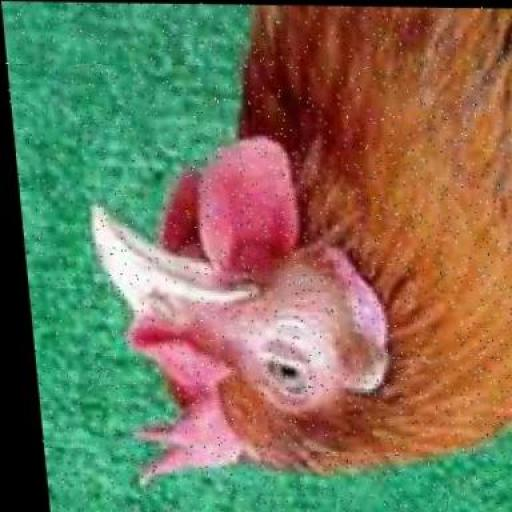disease: (194, 251, 376, 442)
